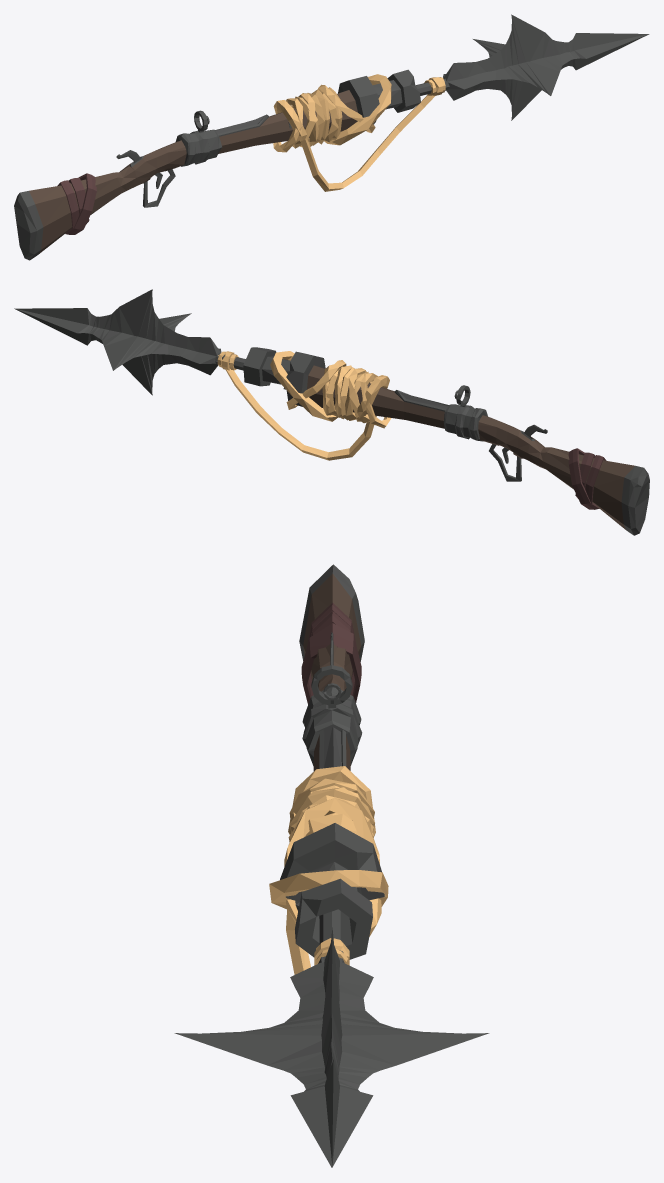
The model's file is Harpoon_004.fbx.
3 views of the same model, one above another, from view 1: azimuth 30°, elevation 25°; view 2: azimuth 150°, elevation 25°; view 3: azimuth 270°, elevation 25° (orthographic). The views are drawn at different scales.
Visible parts, largest first — view 1: Harpoon_004.002_002, Harpoon_004.002_001, Harpoon_004.002_003; view 2: Harpoon_004.002_002, Harpoon_004.002_001, Harpoon_004.002_003; view 3: Harpoon_004.002_002, Harpoon_004.002_001.
Part boxes in pixels (left/top/right/bottom): Harpoon_004.002_002: left=14, top=69, right=420, bottom=260; Harpoon_004.002_001: left=415, top=14, right=649, bottom=120; Harpoon_004.002_003: left=300, top=78, right=443, bottom=191; Harpoon_004.002_002: left=243, top=347, right=649, bottom=535; Harpoon_004.002_001: left=14, top=289, right=245, bottom=395; Harpoon_004.002_003: left=218, top=355, right=376, bottom=460; Harpoon_004.002_002: left=269, top=564, right=388, bottom=959; Harpoon_004.002_001: left=174, top=909, right=489, bottom=1167.
Bounding box in the file's own units: 1.73 × 0.3427 × 0.3747.
